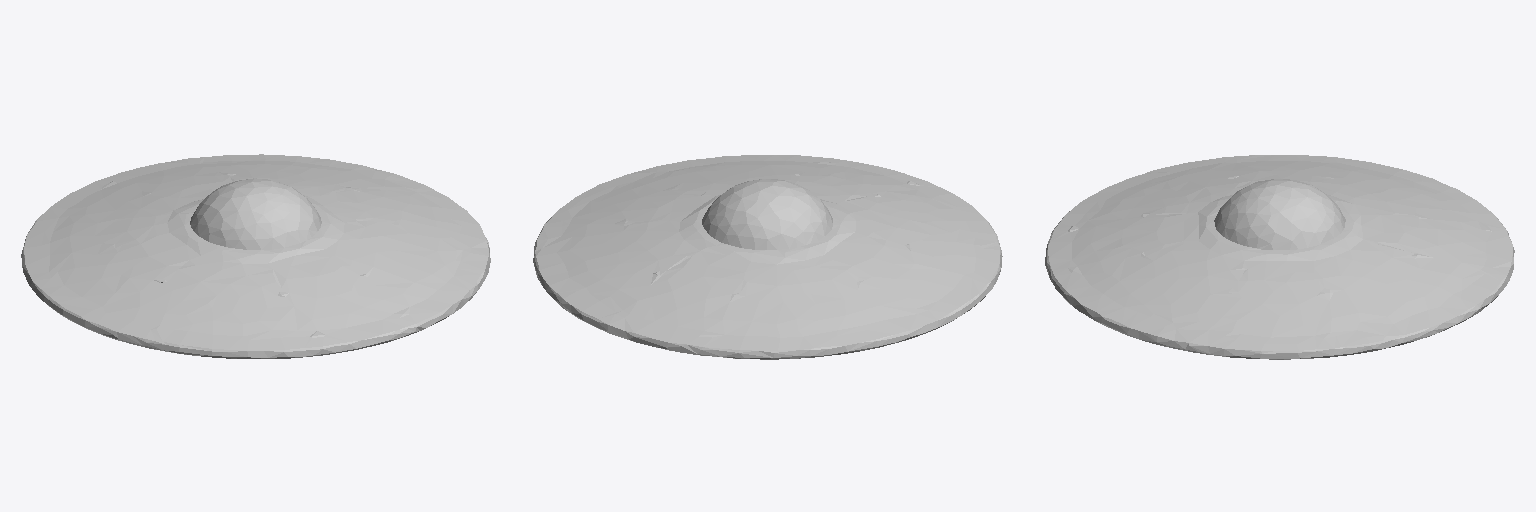
Rendered from ufo_scout.obj.
The picture shows the model from 3 angles: view 1: azimuth 30°, elevation 25°; view 2: azimuth 150°, elevation 25°; view 3: azimuth 270°, elevation 25°; orthographic projection.
Parts seen in each view (by area): view 1: Classic_flying_saucer_[number redacted]_texture; view 2: Classic_flying_saucer_[number redacted]_texture; view 3: Classic_flying_saucer_[number redacted]_texture.
Boxes of the visible parts, <box> form: Classic_flying_saucer_[number redacted]_texture: <box>21,154,490,358</box>; Classic_flying_saucer_[number redacted]_texture: <box>533,155,1002,359</box>; Classic_flying_saucer_[number redacted]_texture: <box>1045,155,1514,359</box>.
Size of the model in its own units: 1.92 by 0.6293 by 1.92.